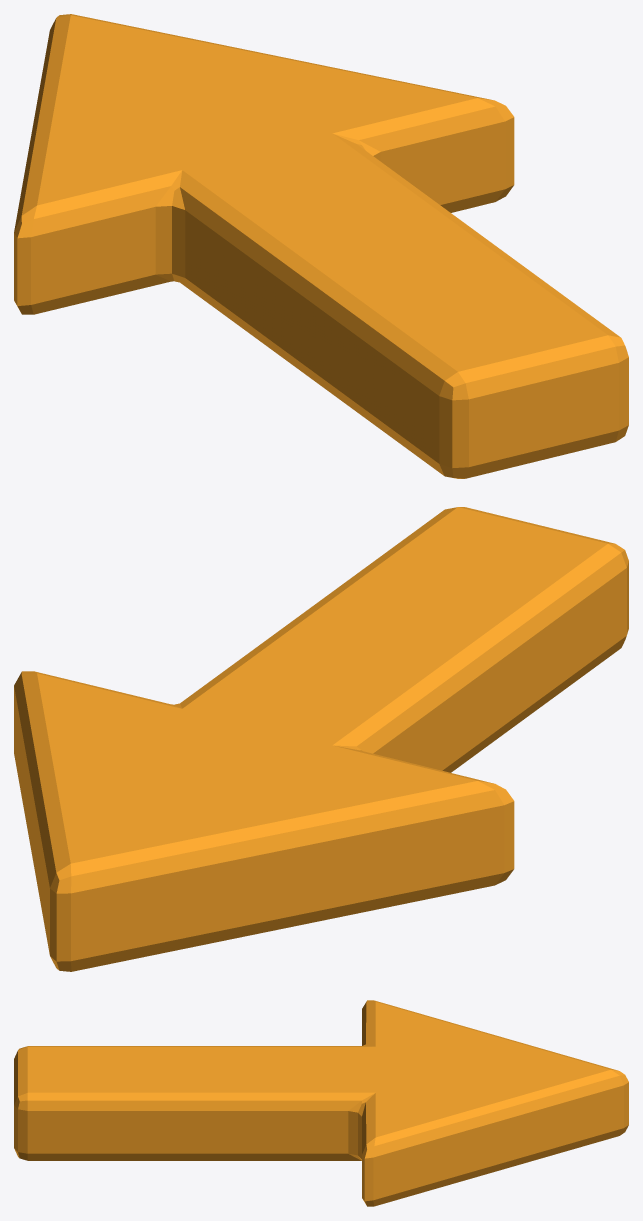
Rendered from Hud_WaypointArrow.fbx.
3 views of the same model, one above another, from view 1: azimuth 30°, elevation 25°; view 2: azimuth 150°, elevation 25°; view 3: azimuth 270°, elevation 25° (orthographic). The views are drawn at different scales.
Parts seen in each view (by area): view 1: Hud_WaypointArrow; view 2: Hud_WaypointArrow; view 3: Hud_WaypointArrow.
Part boxes in pixels (x1,y1,x2,y2): Hud_WaypointArrow: (14, 14, 628, 478); Hud_WaypointArrow: (14, 507, 628, 971); Hud_WaypointArrow: (14, 1000, 628, 1206).
Size of the model in its own units: 0.5828 by 0.9899 by 0.12.
